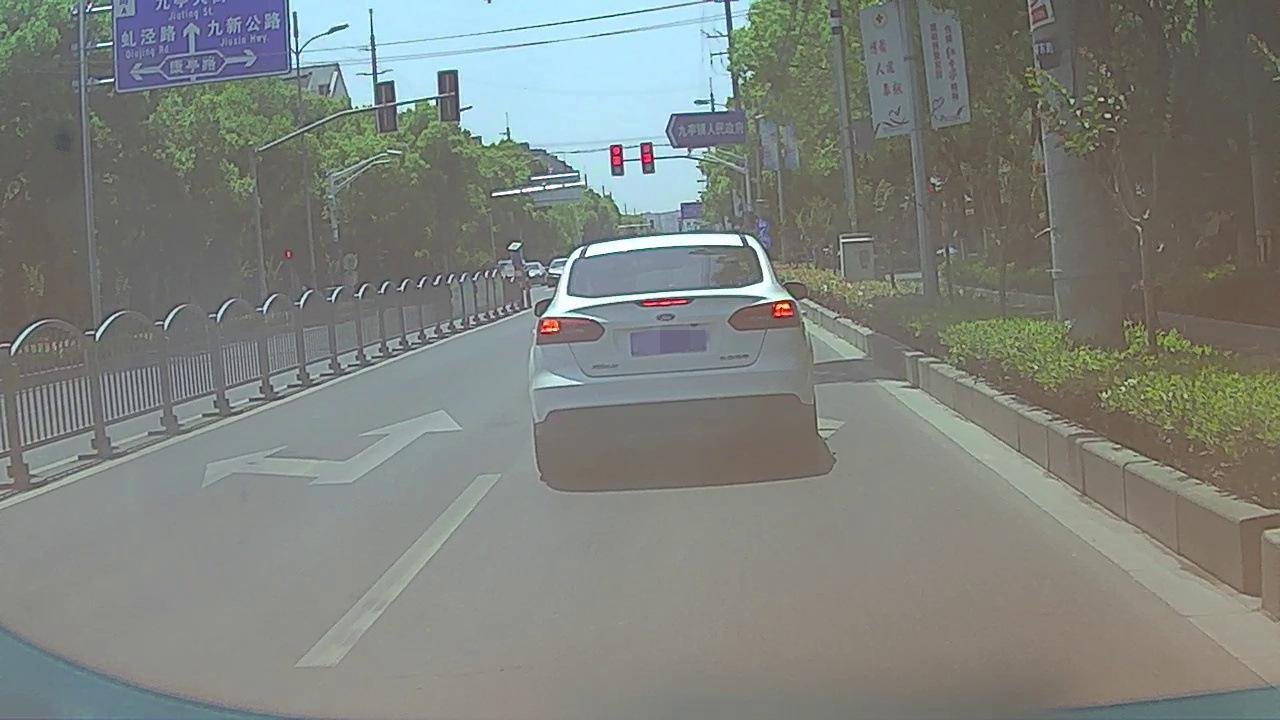traffic_light: (610, 145, 623, 175), (641, 144, 654, 172)
